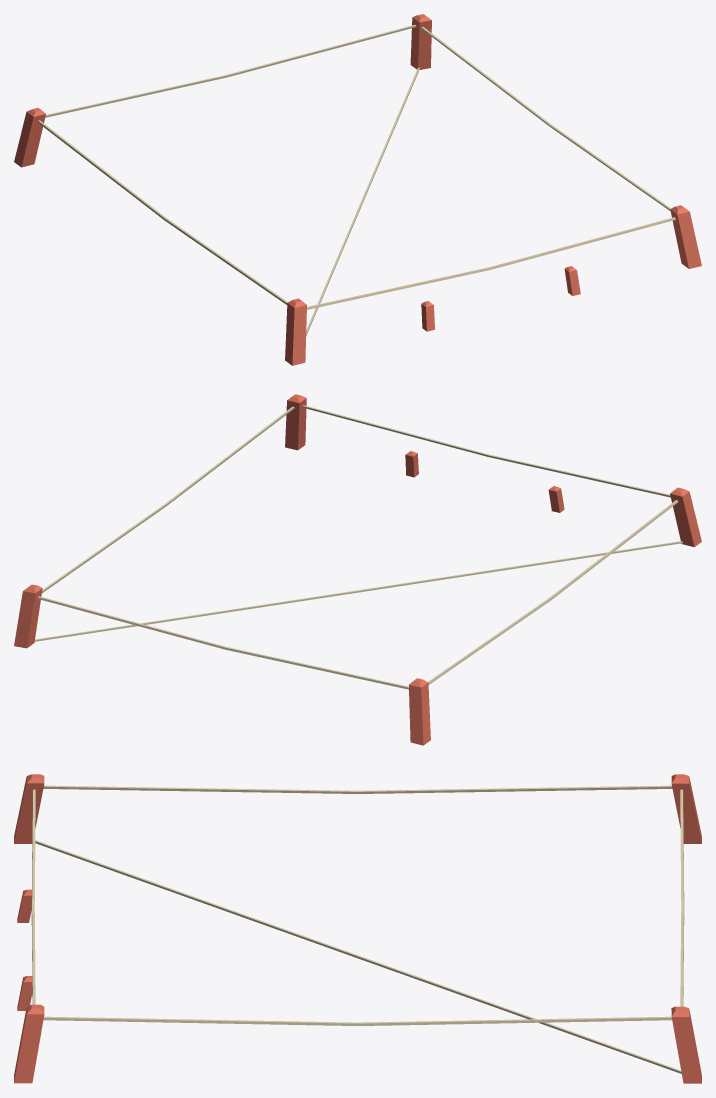
File: cattle-shelter-planned.glb
The picture shows the model from 3 angles, top to bottom: view 1: azimuth 30°, elevation 25°; view 2: azimuth 150°, elevation 25°; view 3: azimuth 270°, elevation 25°; orthographic projection. The views are drawn at different scales.
Parts seen in each view (by area): view 1: string_lines, stakes; view 2: string_lines, stakes; view 3: string_lines, stakes.
Boxes of the visible parts, left/top/right/bottom form: string_lines: left=37, top=25, right=675, bottom=335; stakes: left=14, top=14, right=701, bottom=365; string_lines: left=34, top=405, right=682, bottom=689; stakes: left=14, top=394, right=701, bottom=745; string_lines: left=31, top=785, right=684, bottom=1073; stakes: left=14, top=774, right=701, bottom=1083.
Bounding box in the file's own units: 5.57 × 0.7265 × 6.56.
